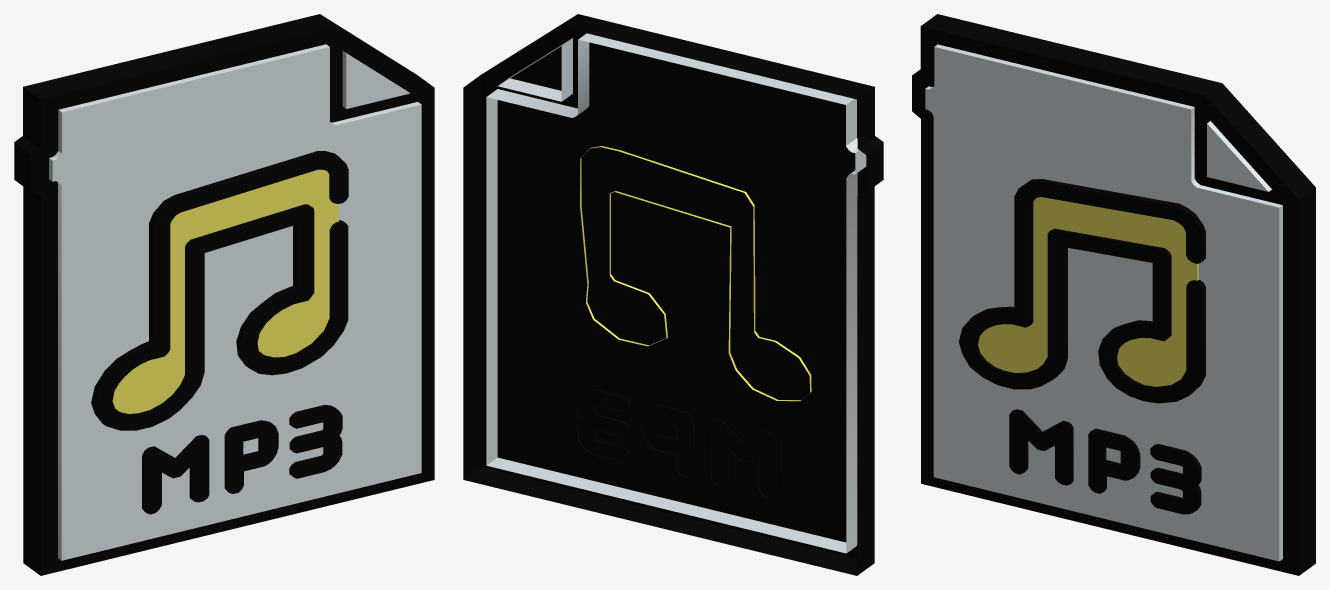
3 views of the same model, side by side, from view 1: azimuth 30°, elevation 25°; view 2: azimuth 150°, elevation 25°; view 3: azimuth 330°, elevation 25° (orthographic). The views are drawn at different scales.
Visible parts, largest first — view 1: Line010; view 2: Line010; view 3: Line010.
Boxes of the visible parts, x1=… form: Line010: x1=14, y1=14, x2=434, y2=575; Line010: x1=463, y1=14, x2=883, y2=575; Line010: x1=912, y1=14, x2=1315, y2=575.
Size of the model in its own units: 0.0832 by 0.0941 by 0.0088.
Materials: 1 (1 with a texture image).
